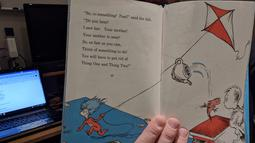text block: (79, 9, 156, 74)
